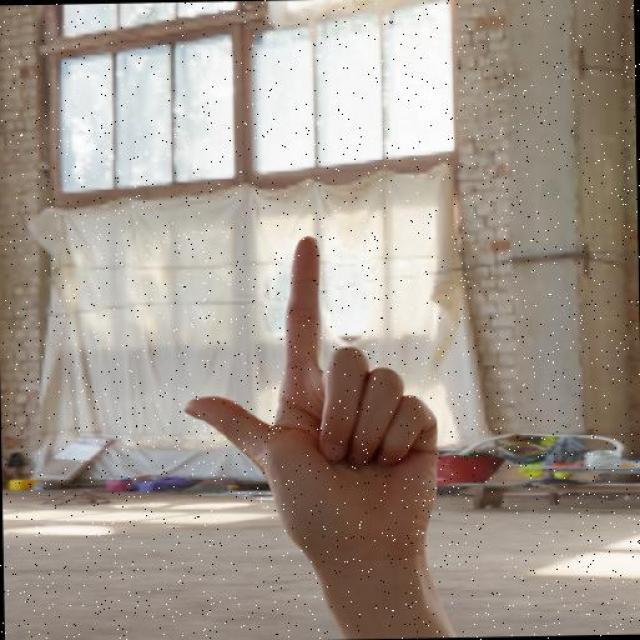L: (184, 223, 454, 582)
